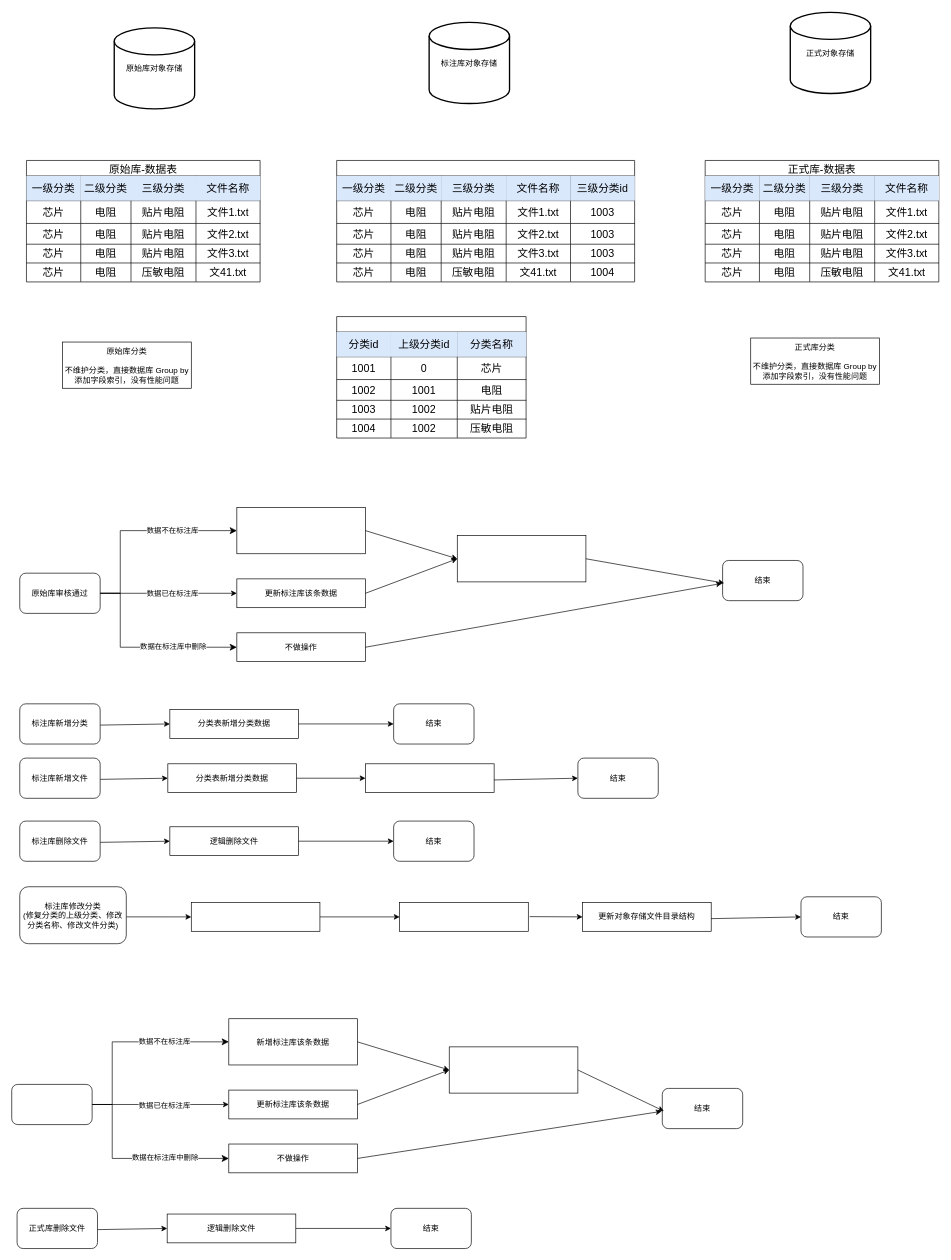
Image size: 951x1260. Some labels were removed from this diagram. Here are the shapes that lost their labels. From the top down, the box of each, then its label:
(336, 160, 635, 282): 标注库-数据表
(336, 316, 526, 438): 标注库-分类表
(236, 507, 365, 554): 数据新增到标注库对应分类下，如果标注库没有这个分类，则新建分类，并新增到改分类下
(457, 535, 586, 582): 更新或新增对象存储标注库文件
(365, 763, 494, 793): 新增对象存储标注库文件
(191, 902, 320, 931): 更新分类表数据
(399, 902, 528, 931): 更新标注库数据表-分类字段
(449, 1046, 578, 1093): 更新或新增对象存储证书库文件
(11, 1084, 92, 1125): 标注库审核通过
